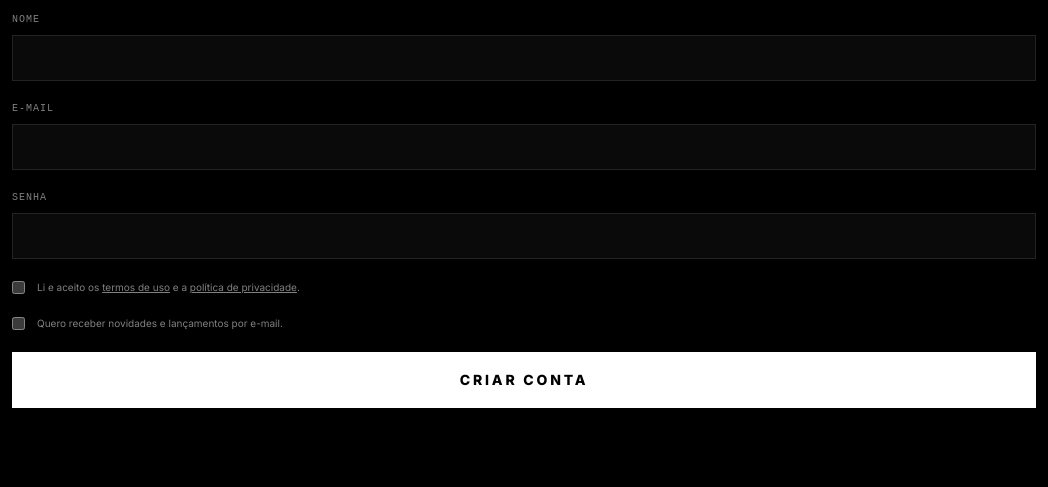
it: SignUpForm › e-mail já cadastrado mostra a mensagem certa
In the field labelled "Nome": [524, 58] box x1=12 y1=35 x2=1036 y2=81, type "Ana Souza"
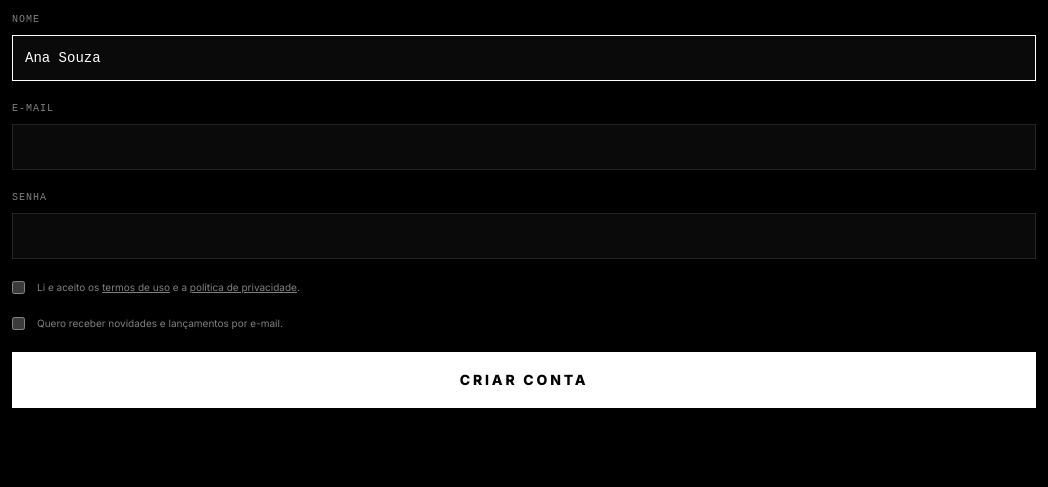
In the field labelled "E-mail": [524, 147] box x1=12 y1=124 x2=1036 y2=170, type "ana@b.com"
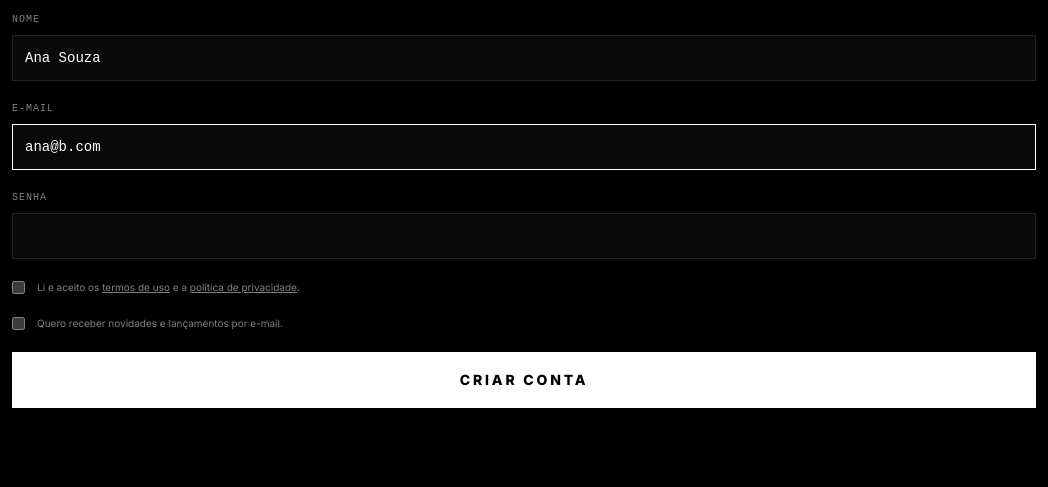
In the password field labelled "Senha": [524, 236] box x1=12 y1=213 x2=1036 y2=259, type "estrela42"
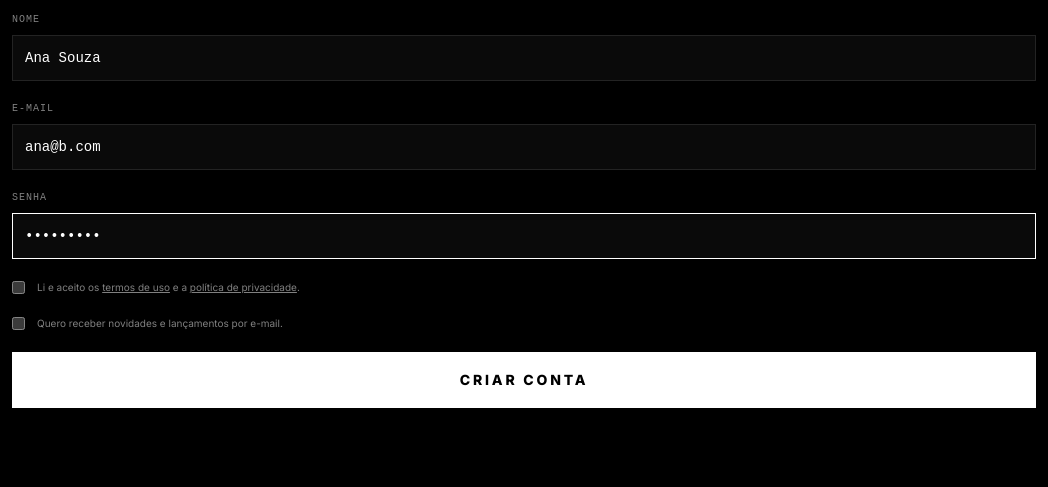
Click the checkbox labelled "Li e aceito os termos de uso e a política de privacidade .": [18, 288] box x1=12 y1=281 x2=25 y2=294
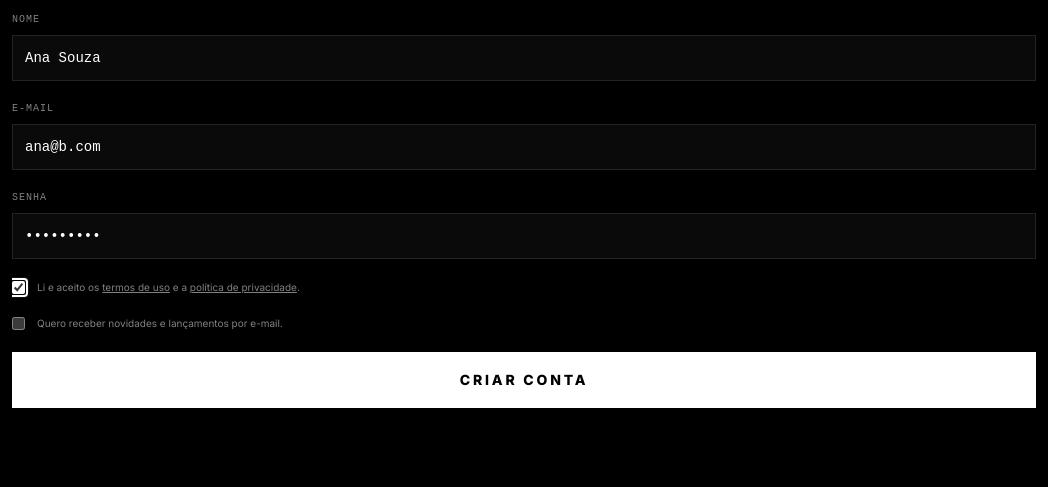
Click the button "Criar conta": [524, 380] box x1=12 y1=352 x2=1036 y2=408
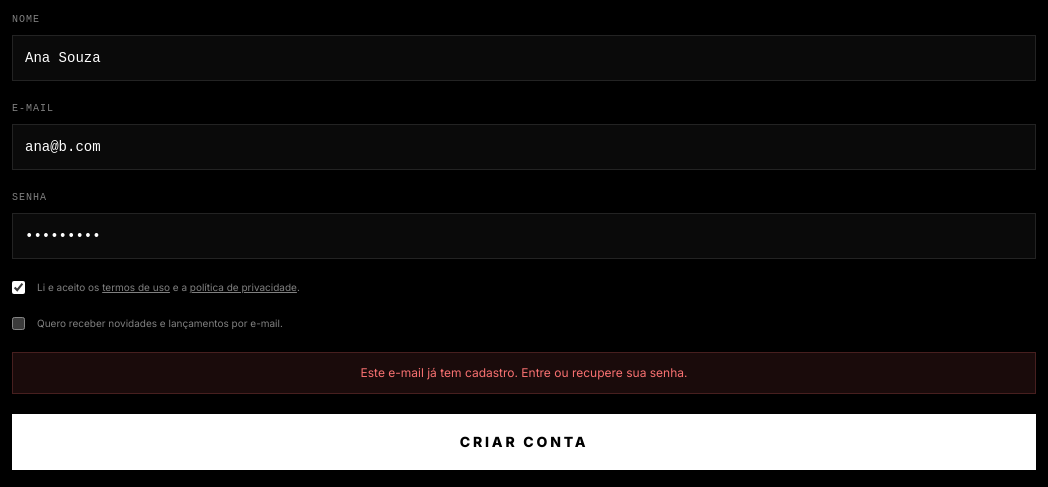
Check: the text "Este e-mail já tem cadastro. Entre ou recupere sua senha." is shown, box x1=12 y1=352 x2=1036 y2=394
